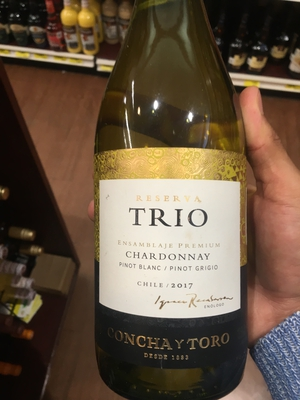trio chardonnay: (92, 30, 254, 400)
